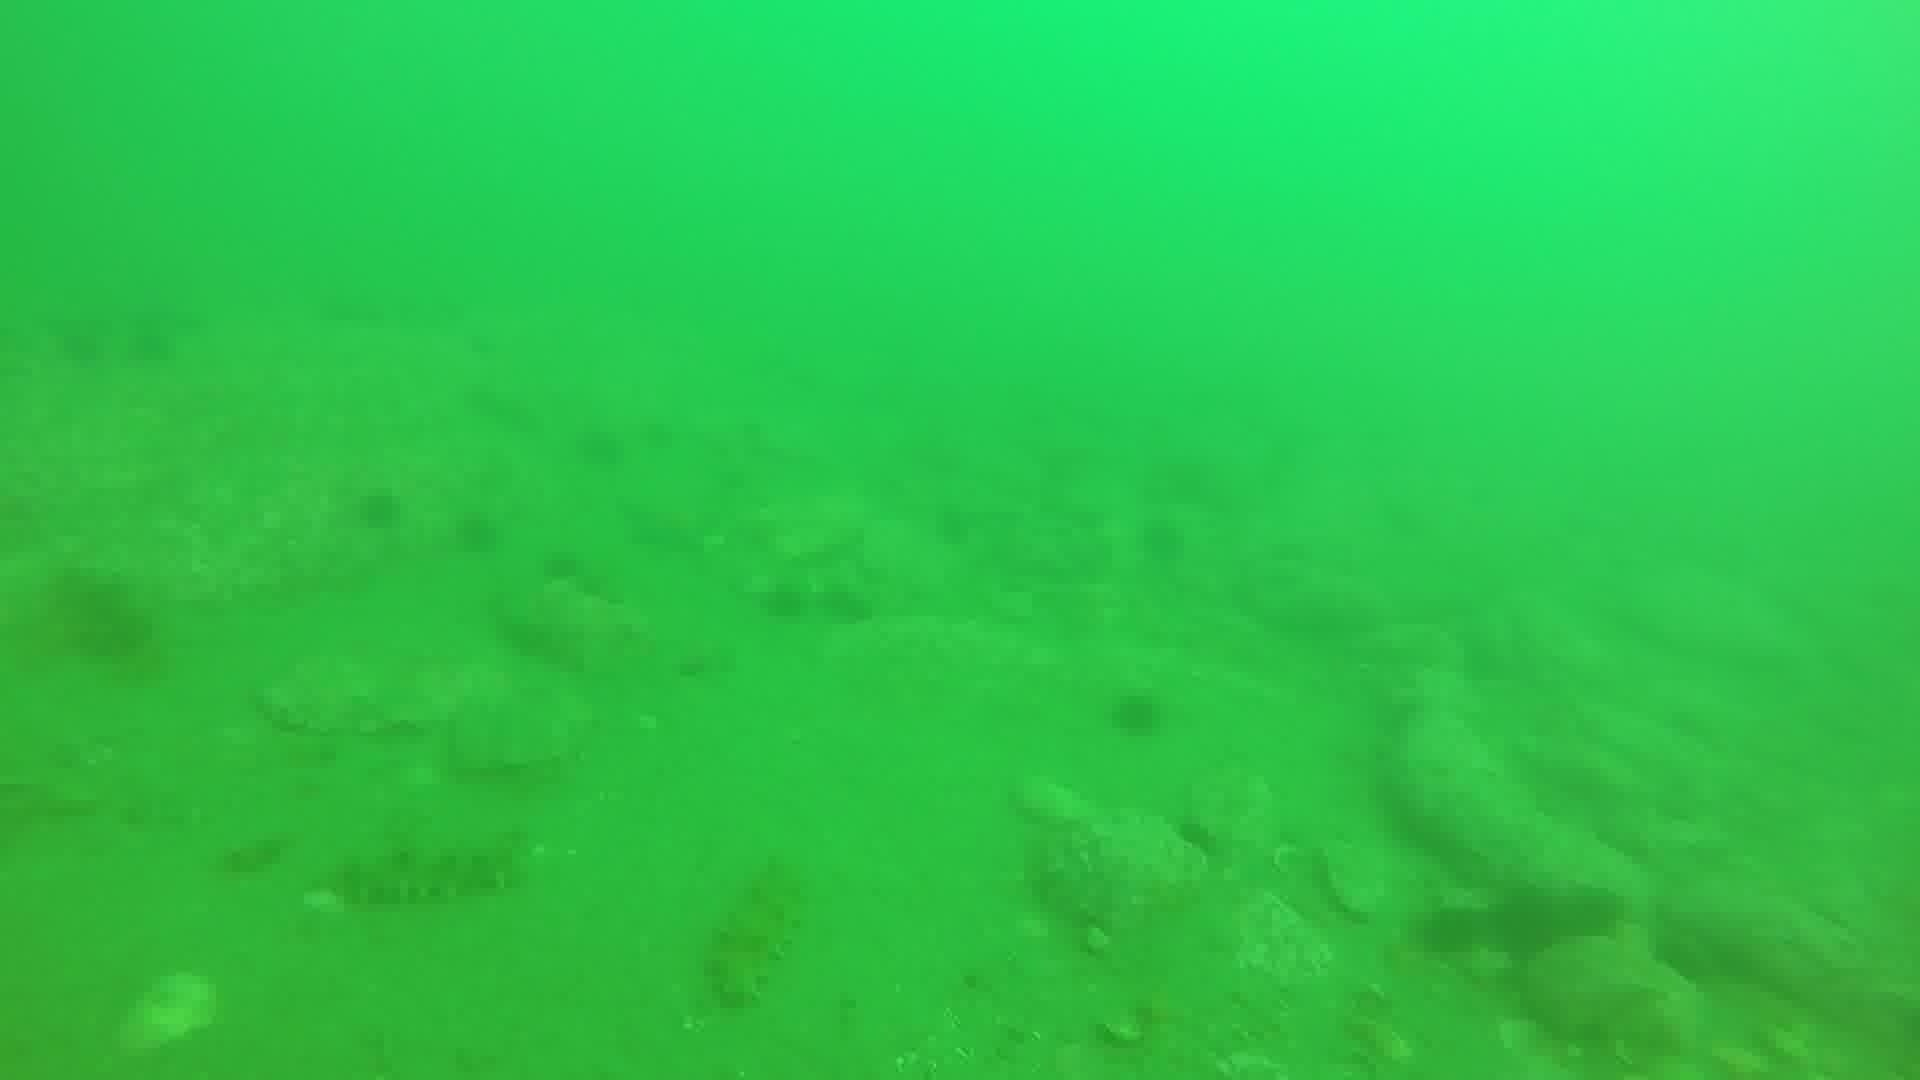echinus: (1482, 884, 1568, 965), (1408, 898, 1487, 963), (1567, 880, 1643, 942), (1104, 684, 1168, 741), (1131, 512, 1192, 570), (448, 505, 506, 559), (349, 483, 407, 535), (756, 578, 812, 626), (816, 587, 873, 630), (121, 330, 181, 371), (319, 287, 375, 330), (579, 429, 634, 468), (932, 508, 978, 549), (49, 324, 98, 363), (535, 550, 578, 584), (570, 564, 609, 599), (491, 396, 530, 425), (465, 384, 502, 414)
holothurian: (694, 851, 814, 1014), (311, 829, 533, 913)
starfish: (617, 489, 717, 556)
